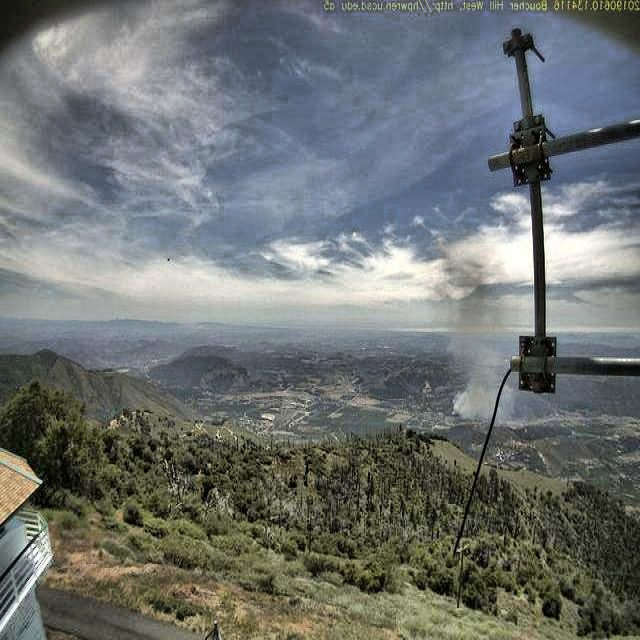smoke: (455, 248, 516, 419)
